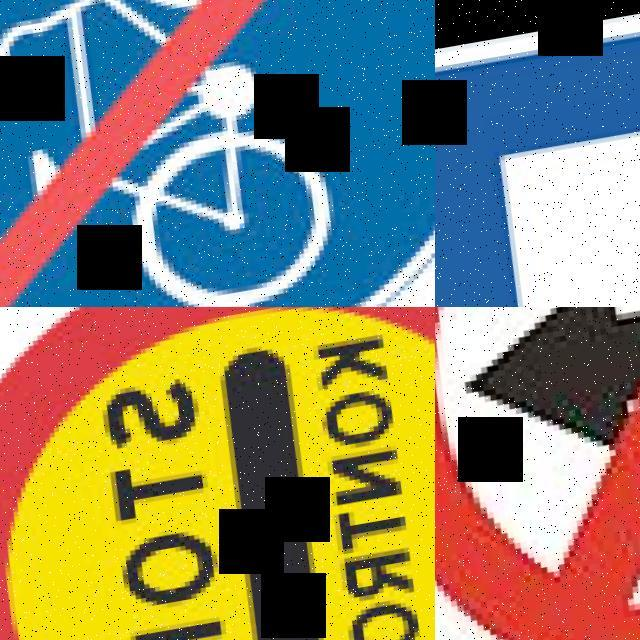112: (0, 0, 435, 307)
116: (0, 307, 435, 640)
23: (435, 0, 640, 307)
No entry: (435, 307, 640, 640)
